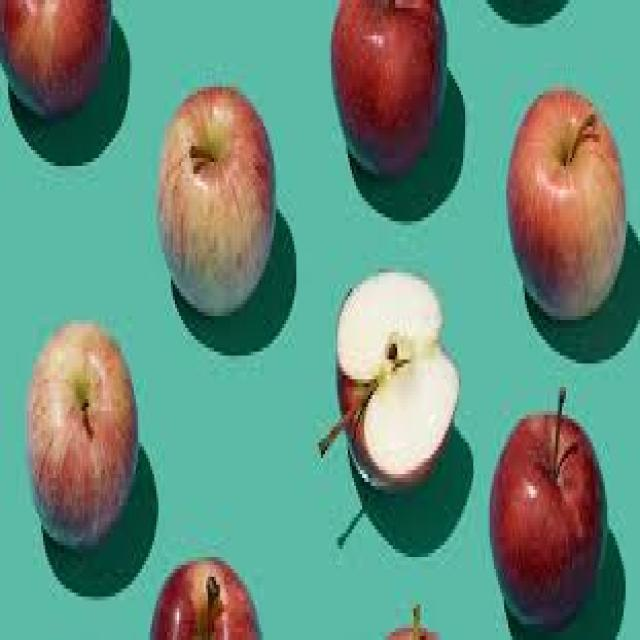Apple: (317, 268, 459, 494), (488, 383, 608, 628), (504, 83, 626, 320), (157, 83, 276, 316), (25, 316, 138, 549), (329, 0, 447, 178), (0, 0, 111, 119), (148, 553, 262, 636)
